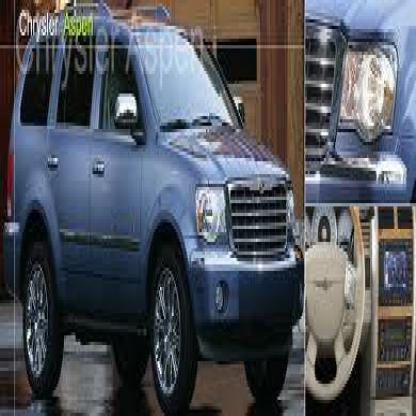Vehicle: (5, 9, 304, 412)
